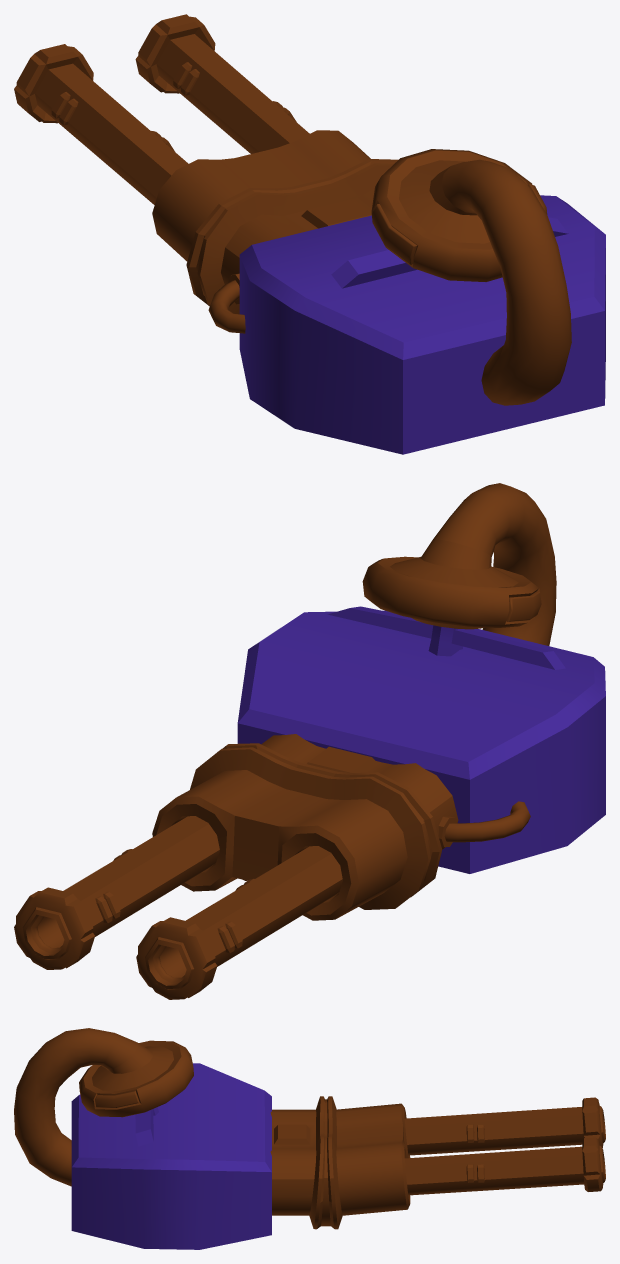
The model's file is turret.fbx.
3 views of the same model, one above another, from view 1: azimuth 30°, elevation 25°; view 2: azimuth 150°, elevation 25°; view 3: azimuth 270°, elevation 25° (orthographic). The views are drawn at different scales.
Parts seen in each view (by area): view 1: polySurface27, pCylinder19; view 2: polySurface27, pCylinder19; view 3: polySurface27, pCylinder19.
Boxes of the visible parts, bbox=[...] form: polySurface27: bbox=[14, 14, 571, 405]; pCylinder19: bbox=[239, 195, 605, 454]; polySurface27: bbox=[14, 483, 556, 999]; pCylinder19: bbox=[237, 606, 605, 873]; polySurface27: bbox=[14, 1028, 605, 1229]; pCylinder19: bbox=[71, 1063, 271, 1249].
Bounding box in the file's own units: 26.45 × 20.99 × 63.52.
